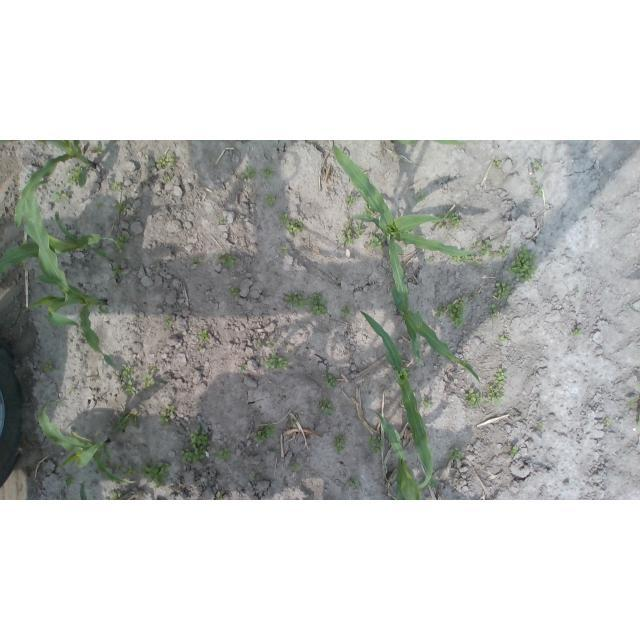Maize: (21, 178, 115, 370), (331, 144, 476, 258), (387, 232, 484, 385), (357, 305, 435, 489), (39, 399, 138, 485), (1, 141, 98, 228), (0, 212, 124, 273), (366, 407, 424, 500), (78, 481, 126, 500), (389, 140, 475, 144)
Weeds: (504, 247, 537, 284), (138, 460, 171, 489), (180, 429, 208, 463), (625, 382, 640, 429), (447, 297, 468, 327), (342, 218, 365, 245), (114, 411, 141, 433), (251, 422, 278, 443), (432, 211, 461, 229), (262, 352, 290, 370), (283, 291, 308, 310), (308, 293, 328, 316), (364, 233, 388, 251), (463, 388, 483, 409), (484, 384, 504, 405), (157, 404, 175, 426), (64, 164, 81, 187), (366, 435, 385, 454), (317, 396, 335, 416), (492, 283, 512, 301), (216, 251, 237, 267), (331, 434, 347, 455), (51, 185, 69, 203), (418, 474, 437, 491), (155, 154, 176, 169), (323, 371, 339, 390), (285, 219, 305, 234), (480, 240, 495, 260), (449, 254, 476, 265), (493, 367, 507, 388), (115, 232, 130, 251), (445, 445, 464, 460), (118, 363, 135, 379), (215, 446, 232, 461), (121, 380, 136, 396), (141, 374, 155, 389), (346, 476, 362, 489), (260, 167, 274, 181), (42, 360, 56, 374), (433, 303, 447, 317), (241, 166, 256, 179), (124, 465, 137, 480), (264, 194, 276, 208), (497, 246, 511, 258), (198, 329, 209, 344), (421, 397, 433, 410), (363, 204, 375, 217), (414, 190, 426, 203), (345, 195, 355, 210), (114, 202, 127, 213), (489, 304, 500, 317), (112, 261, 122, 275), (534, 159, 544, 173), (288, 461, 300, 472), (471, 238, 481, 251), (112, 181, 123, 192), (63, 475, 74, 486), (533, 187, 544, 198), (95, 144, 107, 154), (341, 305, 351, 317), (190, 257, 203, 266), (110, 492, 123, 501), (277, 213, 287, 224), (163, 315, 173, 326), (510, 446, 519, 458), (288, 416, 298, 426), (528, 177, 538, 187), (229, 286, 239, 296), (492, 157, 501, 168), (570, 328, 582, 336), (604, 418, 613, 427), (498, 333, 508, 341), (215, 492, 223, 501), (536, 422, 544, 431), (470, 292, 478, 301), (267, 339, 275, 348), (279, 245, 288, 253), (147, 365, 157, 372), (253, 339, 263, 346), (219, 216, 227, 224), (114, 463, 123, 470), (405, 367, 411, 377), (424, 256, 434, 262), (56, 399, 64, 406), (574, 288, 581, 296), (239, 366, 246, 374), (374, 224, 379, 234), (252, 474, 259, 481), (95, 202, 103, 208), (164, 177, 171, 183), (335, 273, 342, 279), (70, 386, 76, 393), (404, 229, 412, 234), (476, 260, 482, 266), (282, 344, 289, 349), (416, 310, 421, 316)
